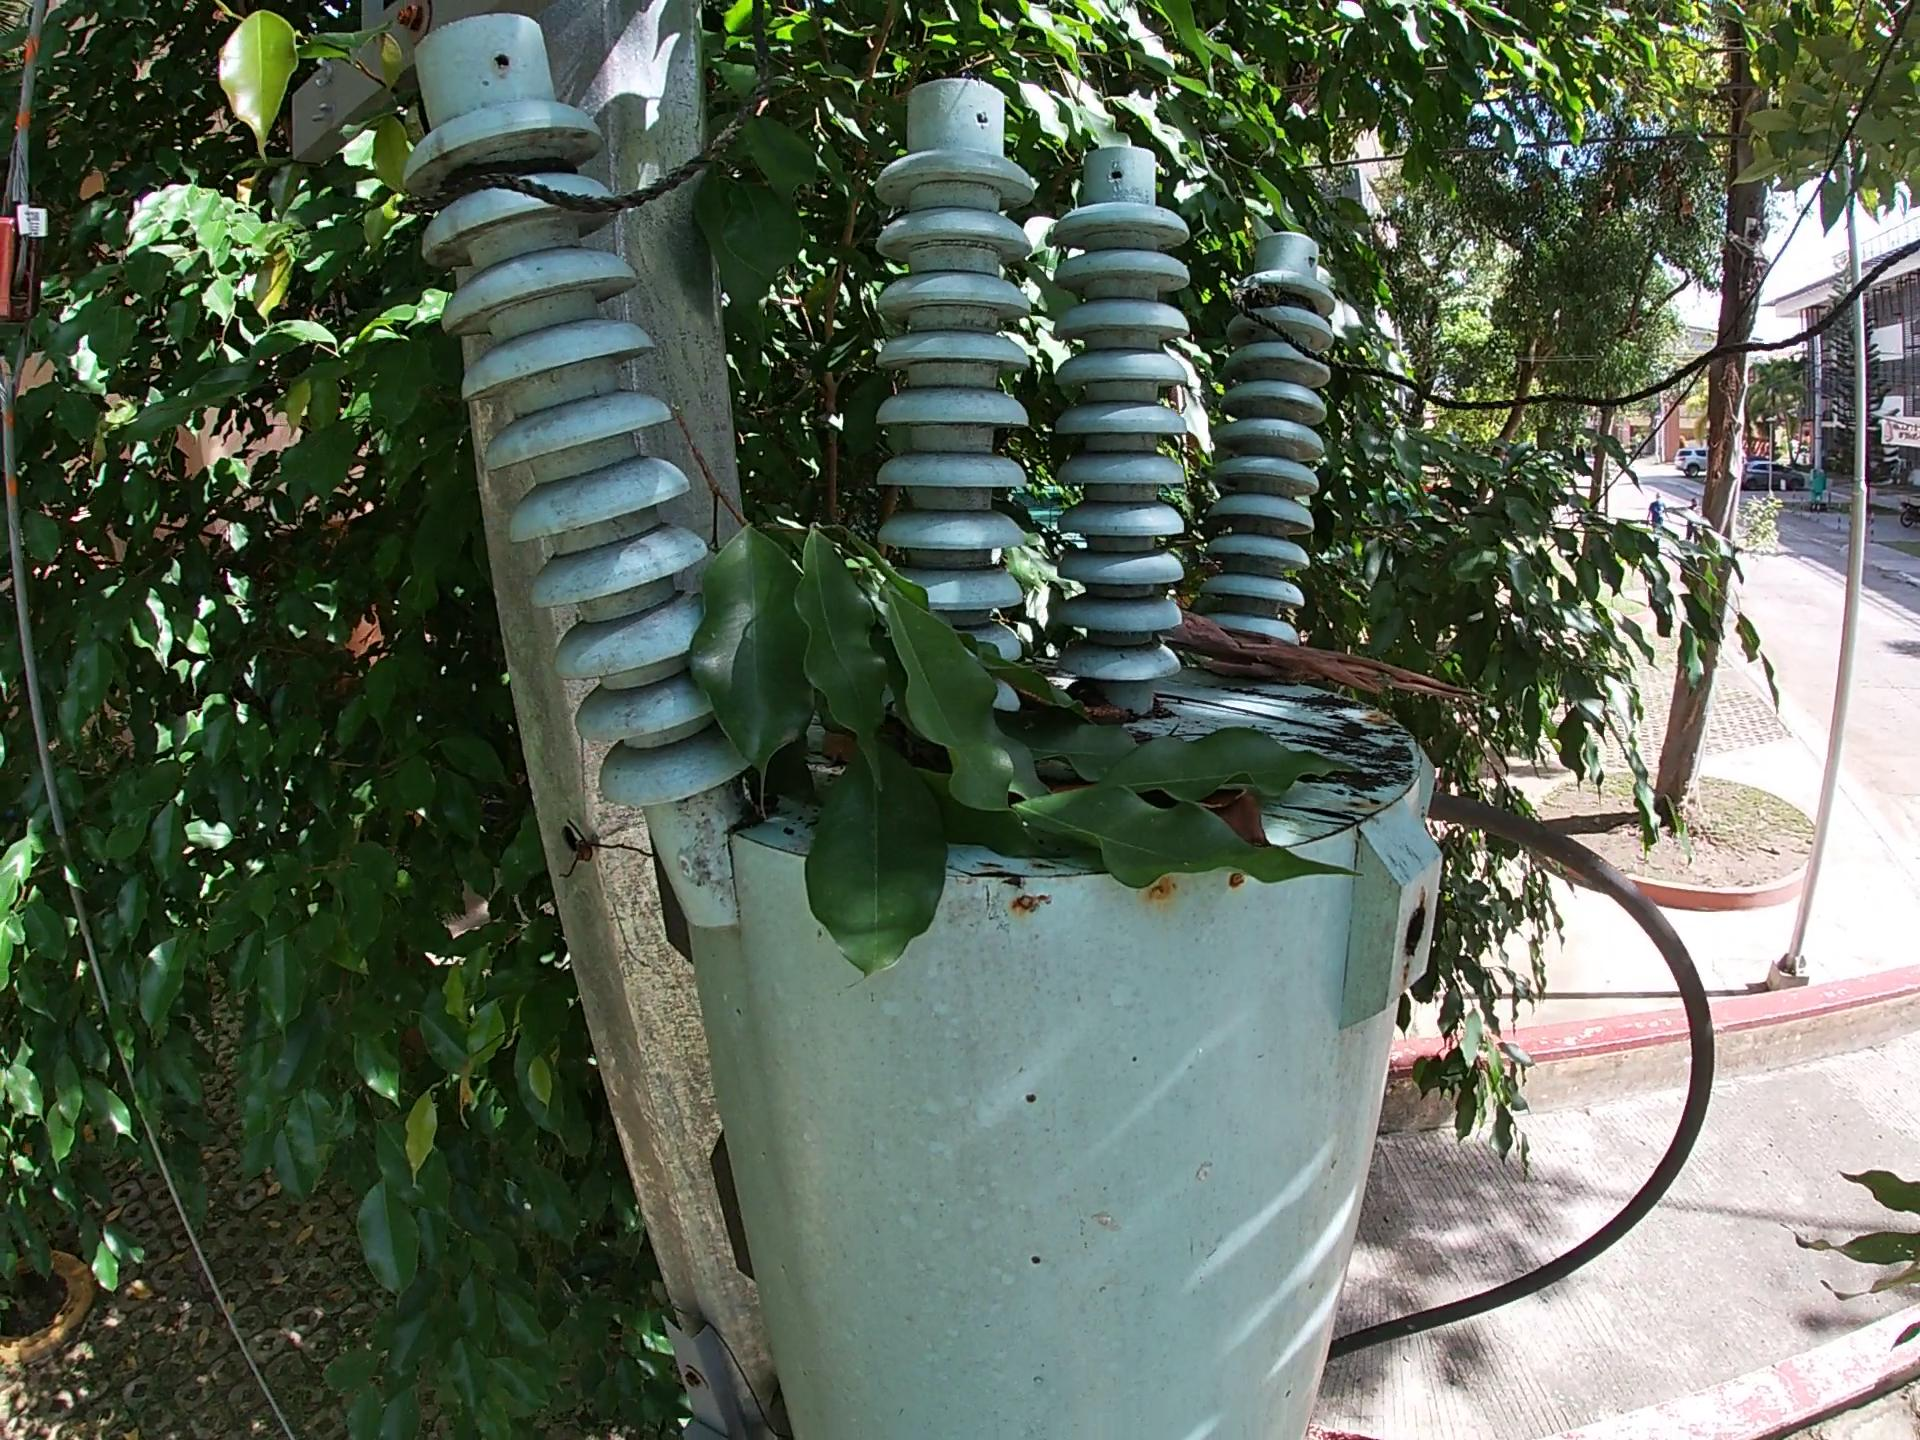branch with leaves: (621, 384, 1457, 980)
mahogany fruit: (1203, 796, 1287, 855), (1066, 693, 1143, 743)
tree branch: (1160, 611, 1497, 715)
